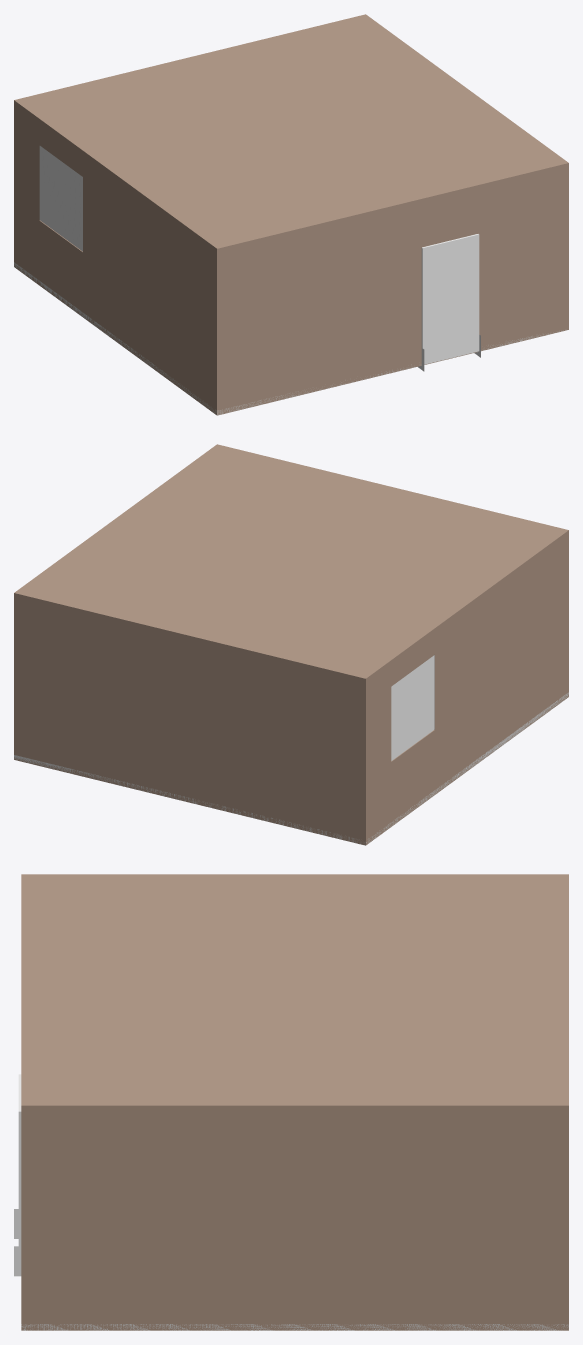
Rendered from laborator.fbx.
The picture shows the model from 3 angles, top to bottom: view 1: azimuth 30°, elevation 25°; view 2: azimuth 150°, elevation 25°; view 3: azimuth 270°, elevation 25°; orthographic projection. The views are drawn at different scales.
Visible parts, largest first — view 1: Cube, CTRL_Hole, CTRL_Hole.001, Cube.001; view 2: Cube, CTRL_Hole.001, Cube.001; view 3: Cube, Cube.001, CTRL_Hole.
Part boxes in pixels (left/top/right/bottom): Cube: left=14, top=14, right=568, bottom=415; CTRL_Hole: left=421, top=234, right=479, bottom=364; CTRL_Hole.001: left=39, top=146, right=82, bottom=251; Cube.001: left=14, top=262, right=567, bottom=415; Cube: left=14, top=444, right=568, bottom=845; CTRL_Hole.001: left=391, top=655, right=434, bottom=760; Cube.001: left=14, top=692, right=568, bottom=845; Cube: left=21, top=874, right=568, bottom=1330; Cube.001: left=21, top=1324, right=568, bottom=1330; CTRL_Hole: left=18, top=1074, right=21, bottom=1268.
Bounding box in the file's own units: 662 × 307 × 671.
